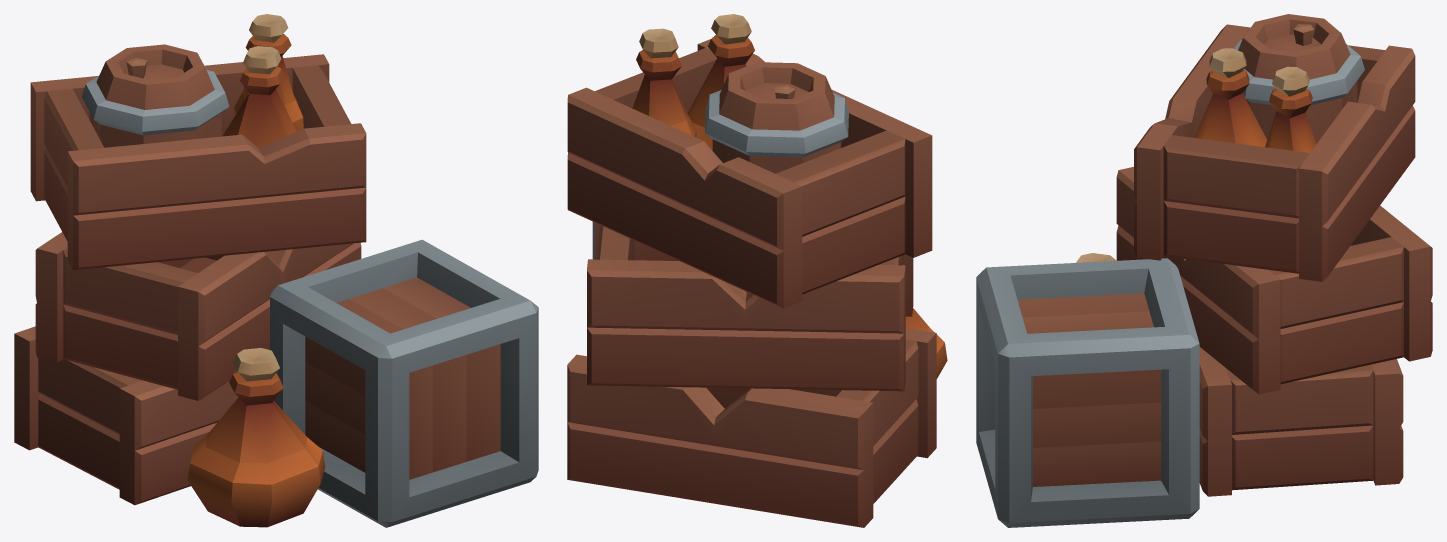
The model's file is fw_crates_stack.hi.glb.
3 views of the same model, side by side, from view 1: azimuth 30°, elevation 25°; view 2: azimuth 150°, elevation 25°; view 3: azimuth 270°, elevation 25° (orthographic). The views are drawn at different scales.
Parts seen in each view (by area): view 1: body; view 2: body; view 3: body.
Boxes of the visible parts, x1,y1,x2,y2 form: body: (14, 14, 538, 527); body: (567, 14, 947, 527); body: (976, 14, 1432, 527).
Bounding box in the file's own units: 1.25 × 1.29 × 1.35.
